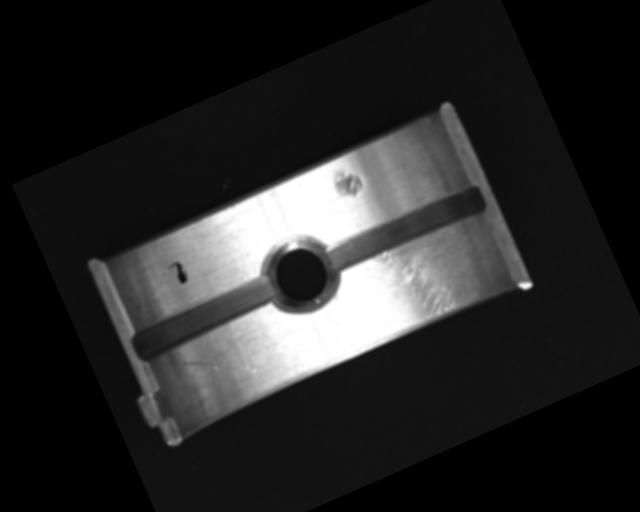blot: (166, 259, 191, 288)
bruise: (327, 160, 367, 202)
gap: (319, 179, 491, 280), (128, 273, 278, 362)
hole: (250, 227, 346, 325)
nick: (172, 332, 259, 402)
scratch: (334, 211, 510, 352)
